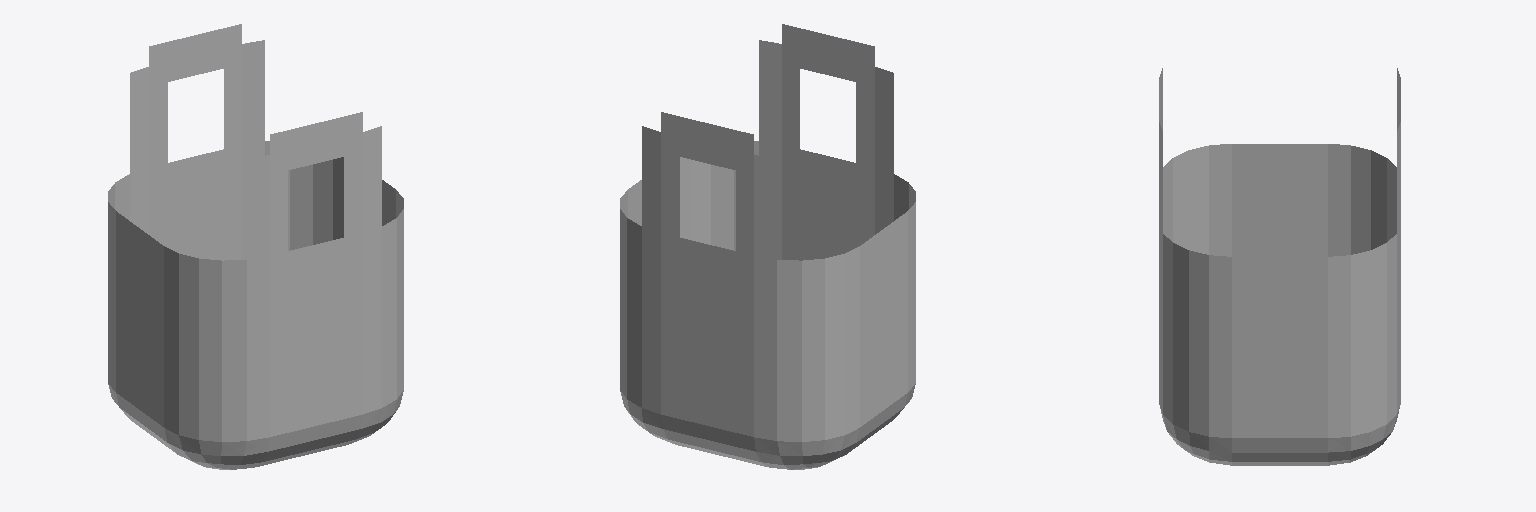
Rendered from bag1_32.obj.
The picture shows the model from 3 angles: view 1: azimuth 30°, elevation 25°; view 2: azimuth 150°, elevation 25°; view 3: azimuth 270°, elevation 25°; orthographic projection.
Visible parts, largest first — view 1: Cube-0-1.035_Cube.150; view 2: Cube-0-1.035_Cube.150; view 3: Cube-0-1.035_Cube.150.
Boxes of the visible parts, <box> form: Cube-0-1.035_Cube.150: <box>108,24,403,469</box>; Cube-0-1.035_Cube.150: <box>620,24,915,469</box>; Cube-0-1.035_Cube.150: <box>1159,68,1400,465</box>.
Bounding box in the file's own units: 2 × 2.91 × 1.8.